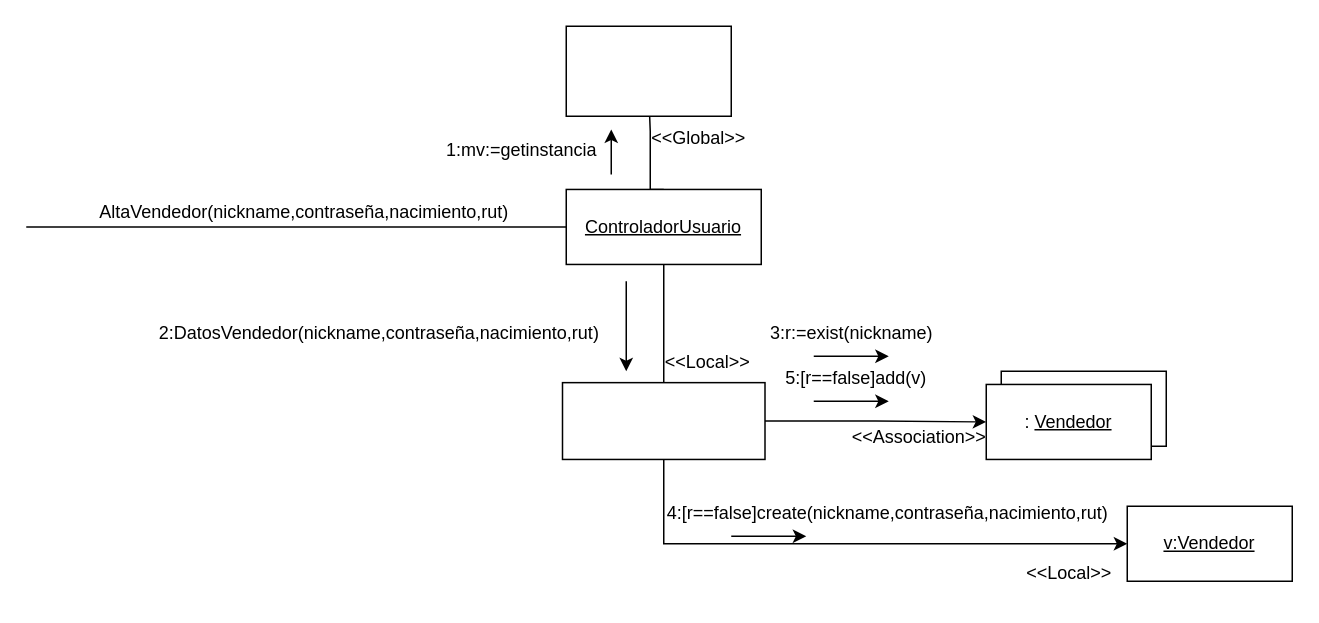
The diagram is 1319 pixels wide and 623 high, and some of its shapes have lost their labels. Each missing label, with the box of its shape:
ManejadorVendedor: (565, 25, 731, 116)
mv:ManejadorVendedor: (561, 381, 765, 459)
